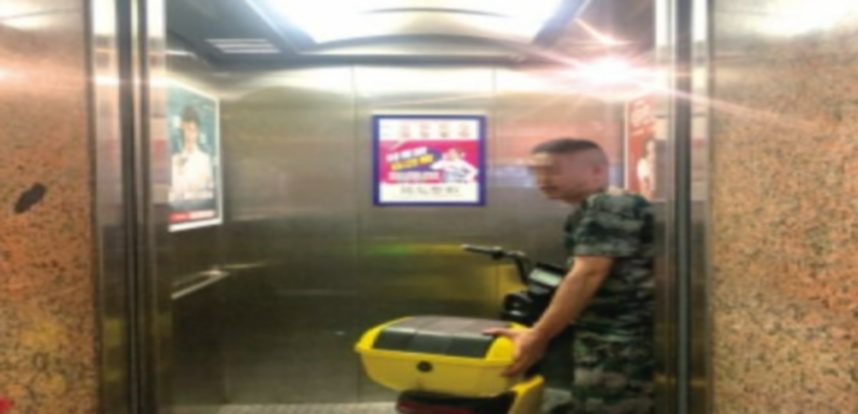ebike: (351, 240, 573, 406)
person: (509, 141, 656, 407)
